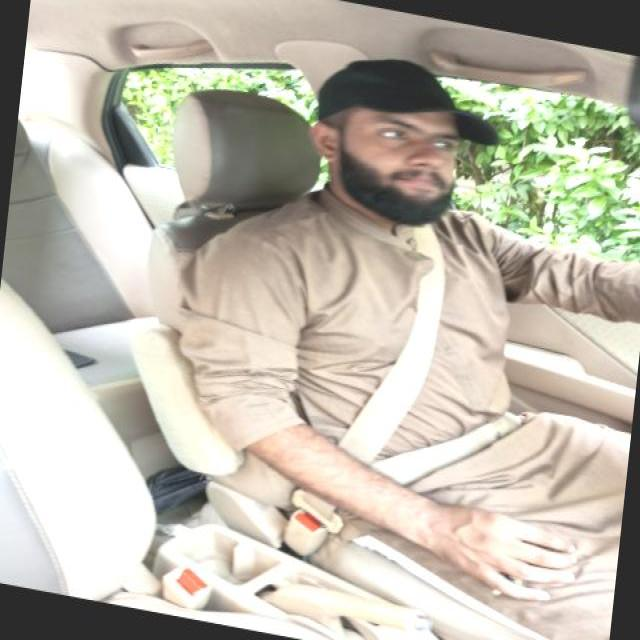seatbelt: (190, 116, 582, 594)
